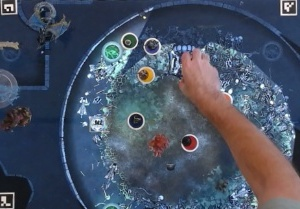blue: (127, 111, 147, 129)
green: (118, 31, 140, 50)
orange: (217, 92, 236, 110)
red: (180, 132, 200, 153)
violet: (144, 36, 164, 56)
yellow: (137, 66, 157, 86)
